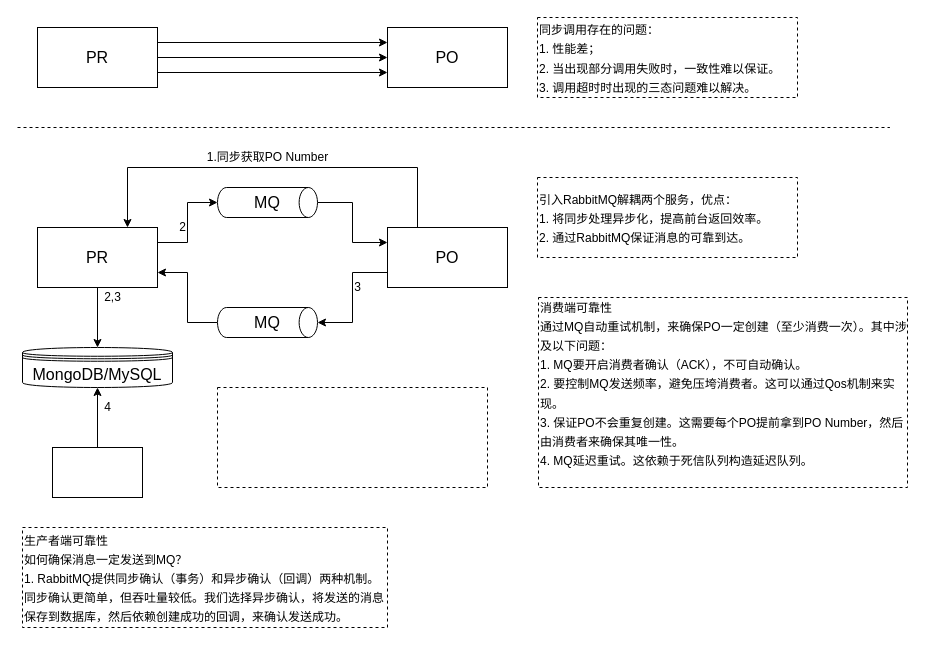
This 925x645 diagram has some shape labels left out. The shapes that lost their labels are listed below. From the top down, each one's centre as x and y in pixels, then its label:
the point at 352,437: MQ自身的可靠性 如何确保消息不丢？ 1. 开启持久化。 2. 确保Queue足够大。 3. 极端情况下，提供死信队列，处理溢出消息。
the point at 97,472: 对账Task
